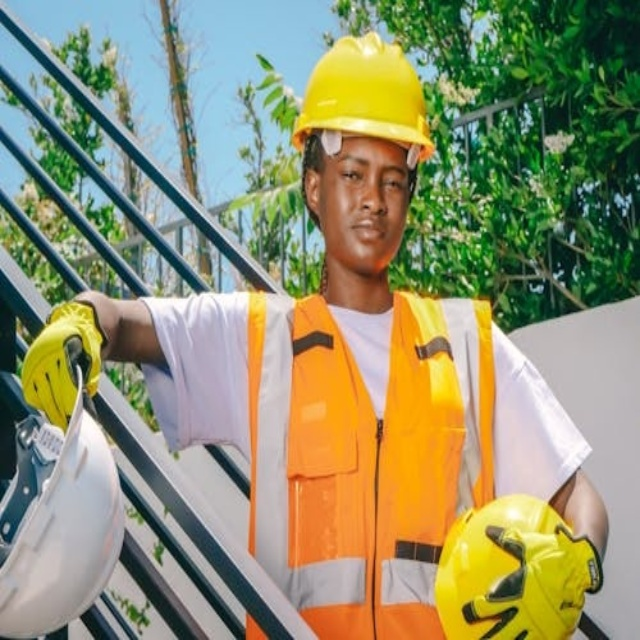Guantes: (460, 518, 604, 640), (21, 301, 108, 432)
Sin_gafas: (333, 152, 408, 196)
Sin_mascara: (343, 213, 388, 265)
